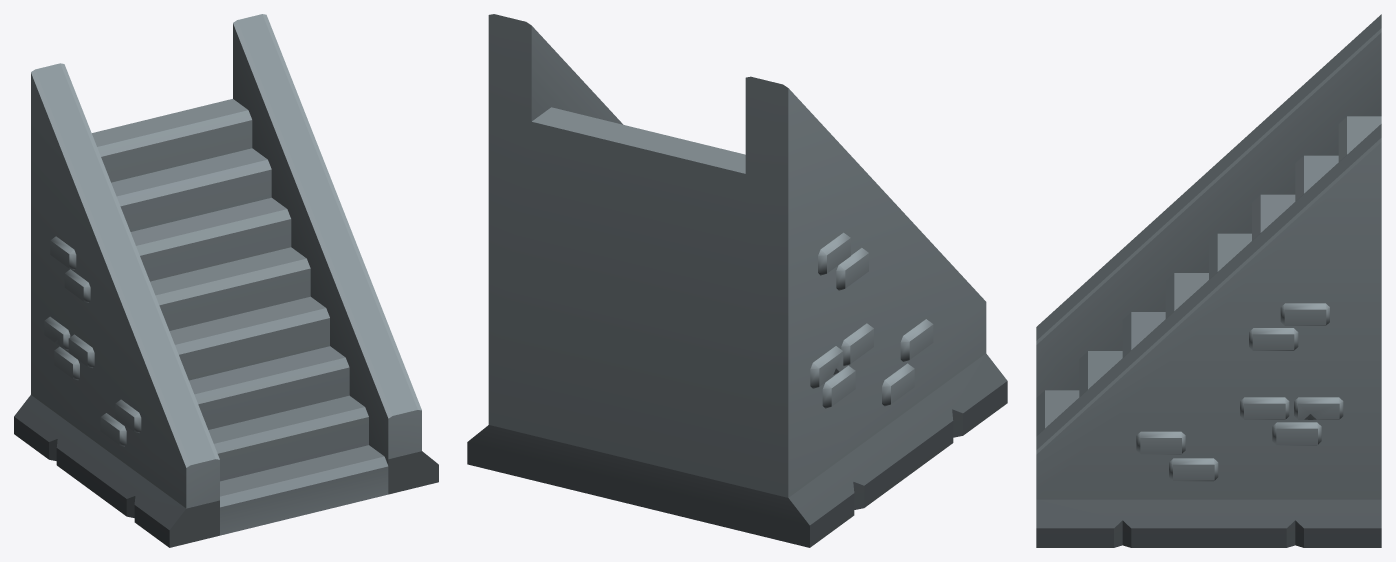
The model's file is stairs_narrow.glb.
3 renders of one model, left to right at view 1: azimuth 30°, elevation 25°; view 2: azimuth 150°, elevation 25°; view 3: azimuth 270°, elevation 25°, orthographic. The views are drawn at different scales.
Parts seen in each view (by area): view 1: stairs_narrow; view 2: stairs_narrow; view 3: stairs_narrow.
Part boxes in pixels (x1,y1,x2,y2): stairs_narrow: [14, 14, 438, 547]; stairs_narrow: [467, 14, 1007, 547]; stairs_narrow: [1036, 14, 1381, 547].
Size of the model in its own units: 2 by 2.55 by 2.
1 material, 1 textured.
